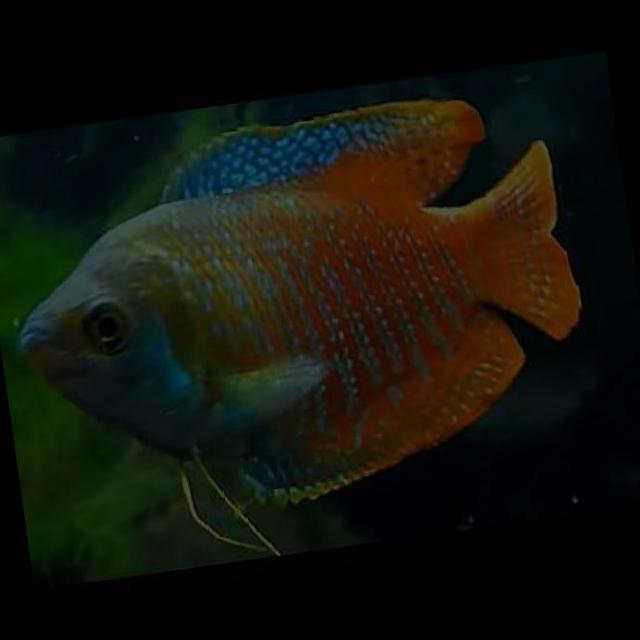Gourami: (0, 72, 603, 536)
